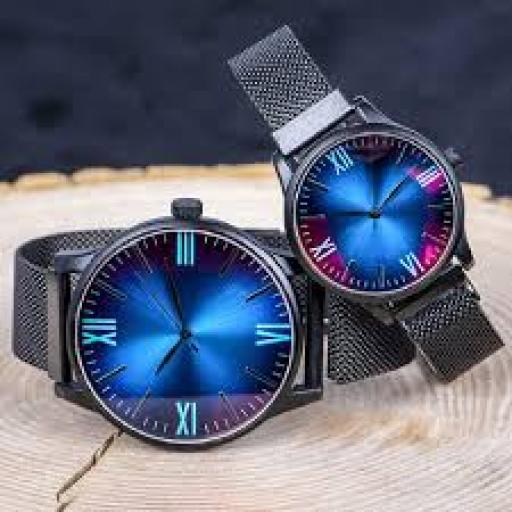KolSaati: (211, 18, 487, 369), (18, 214, 287, 403)
